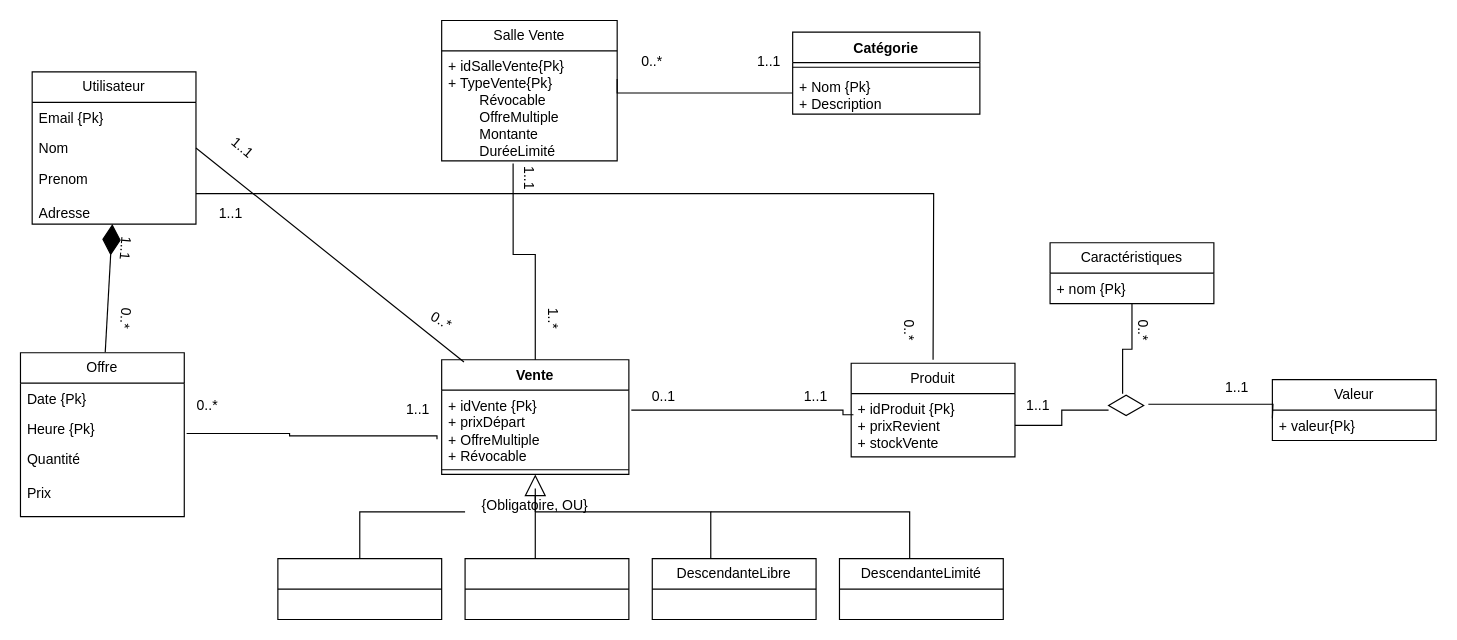
This 1457x640 diagram has some shape labels left out. The centre of each missing label's shape, as x and y in pixels:
MontanteLibre: the point at 359,589
MontanteLimité: the point at 546,589
